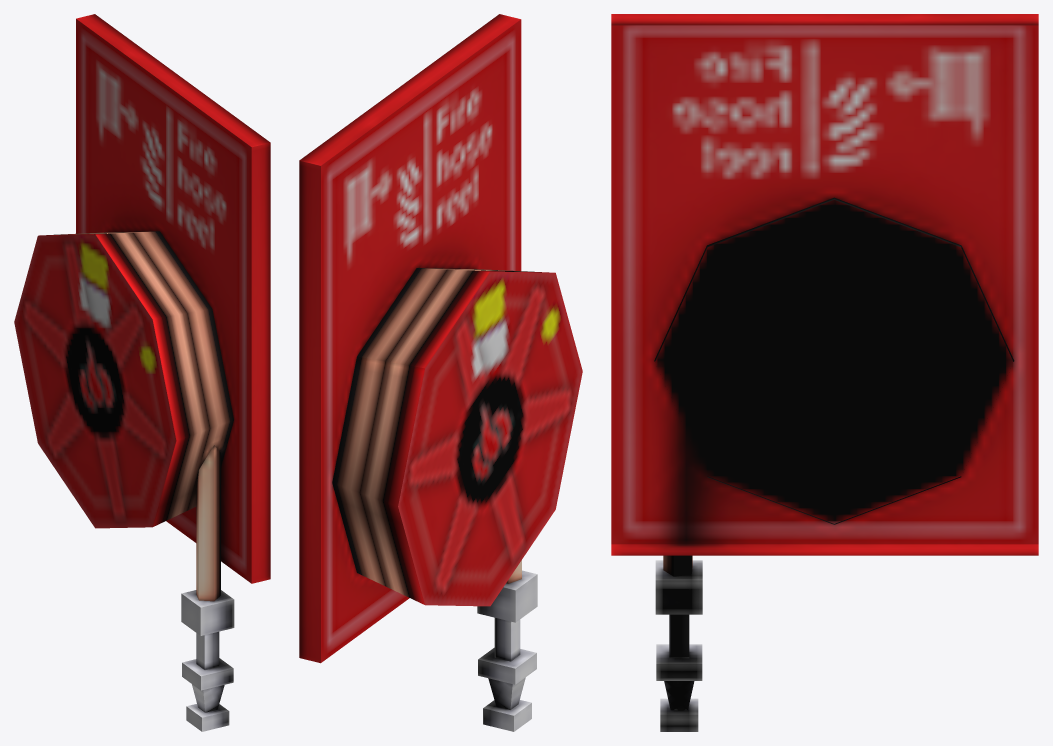
Rendered from FireHose.FBX.
The picture shows the model from 3 angles, left to right: view 1: azimuth 30°, elevation 25°; view 2: azimuth 150°, elevation 25°; view 3: azimuth 270°, elevation 25°; orthographic projection. The views are drawn at different scales.
Visible parts, largest first — view 1: Box002; view 2: Box002; view 3: Box002.
Part boxes in pixels (<box>): Box002: <box>14,14,270,731</box>; Box002: <box>299,14,582,731</box>; Box002: <box>611,14,1038,731</box>.
Size of the model in its own units: 22.01 by 149 by 80.
1 material, 1 textured.
